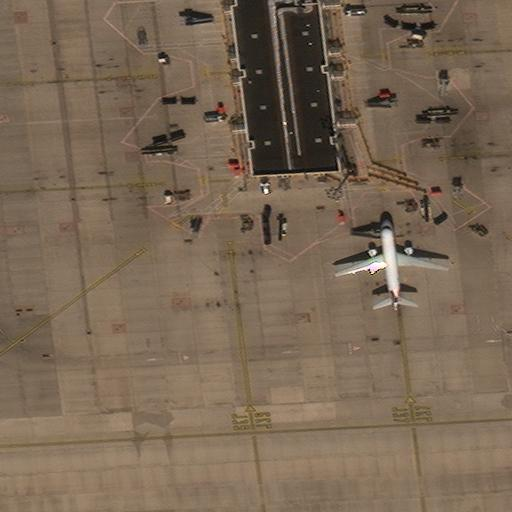Medium Civil Transport: (333, 219, 449, 309)
